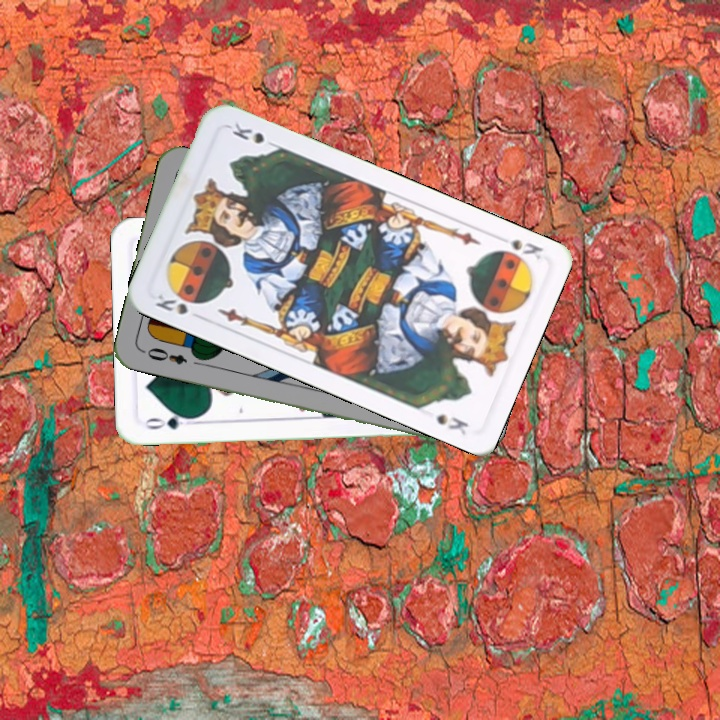EO: (138, 343, 190, 368)
GO: (140, 409, 199, 432)
SK: (491, 233, 546, 262), (151, 289, 190, 318)
